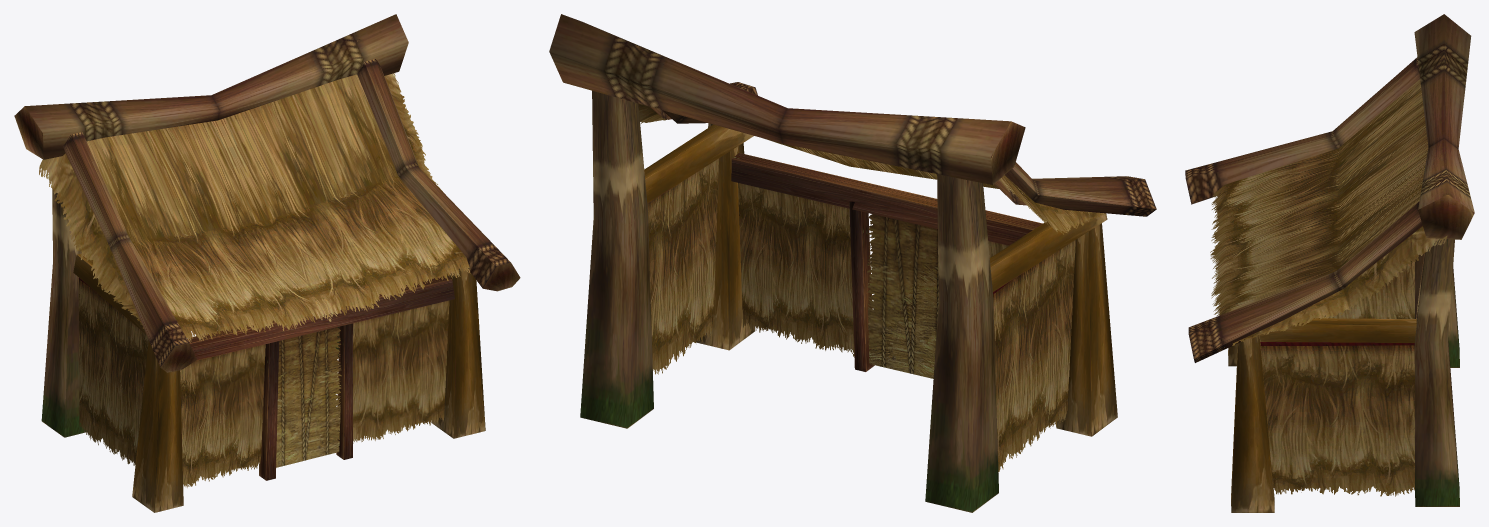
Rendered from environment_Building_cunzhuang_005_a.FBX.
3 views of the same model, side by side, from view 1: azimuth 30°, elevation 25°; view 2: azimuth 150°, elevation 25°; view 3: azimuth 270°, elevation 25° (orthographic). The views are drawn at different scales.
Visible parts, largest first — view 1: environment_Building_cunzhuang_005_c, environment_Building_cunzhuang_005_a, environment_Building_cunzhuang_005_b, environment_Building_cunzhuang_005_e, environment_Building_cunzhuang_005_d; view 2: environment_Building_cunzhuang_005_b, environment_Building_cunzhuang_005_c, environment_Building_cunzhuang_005_a, environment_Building_cunzhuang_005_e, environment_Building_cunzhuang_005_d; view 3: environment_Building_cunzhuang_005_c, environment_Building_cunzhuang_005_a, environment_Building_cunzhuang_005_b.
Boxes of the visible parts, x1,y1,x2,y2 form: environment_Building_cunzhuang_005_c: (39,73,470,487); environment_Building_cunzhuang_005_a: (14,14,520,372); environment_Building_cunzhuang_005_b: (41,189,485,512); environment_Building_cunzhuang_005_e: (187,276,454,480); environment_Building_cunzhuang_005_d: (276,327,341,467); environment_Building_cunzhuang_005_b: (580,90,1117,512); environment_Building_cunzhuang_005_c: (638,103,1106,472); environment_Building_cunzhuang_005_a: (549,14,1156,216); environment_Building_cunzhuang_005_e: (731,153,1042,371); environment_Building_cunzhuang_005_d: (867,214,938,378); environment_Building_cunzhuang_005_c: (1210,79,1447,496); environment_Building_cunzhuang_005_a: (1185,14,1474,362); environment_Building_cunzhuang_005_b: (1228,239,1459,512).
Bounding box in the file's own units: 391 × 333 × 266.
